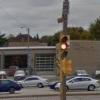Traffic light: (48, 29, 72, 77)
